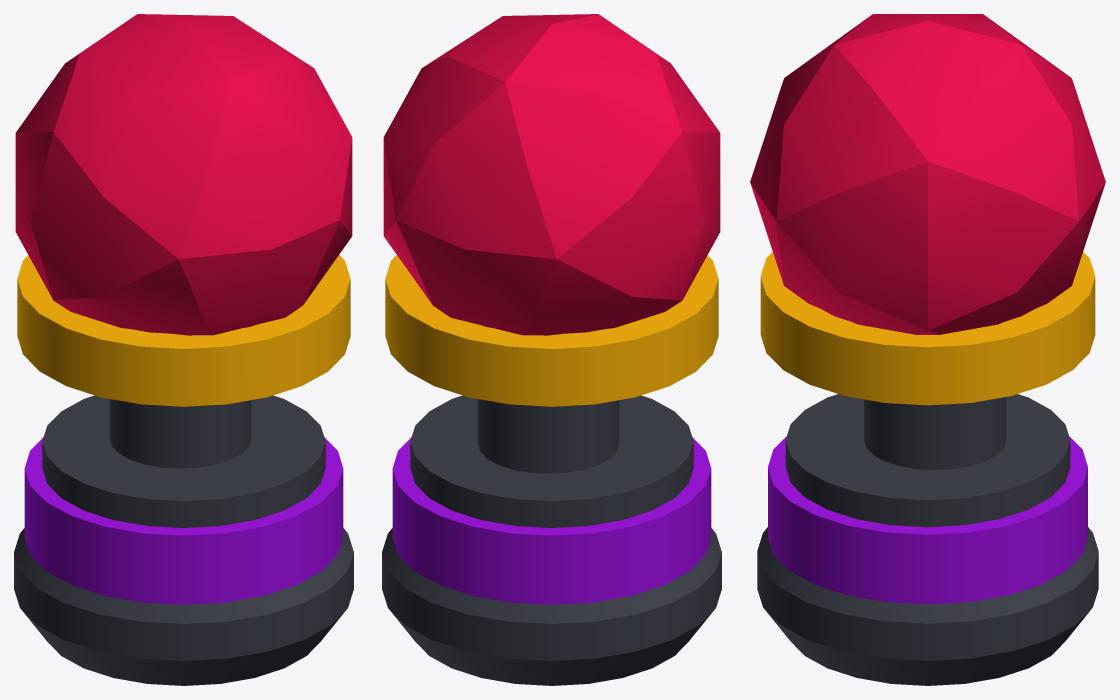
The model's file is tower_carmen_lucia.obj.
3 renders of one model, left to right at view 1: azimuth 30°, elevation 25°; view 2: azimuth 150°, elevation 25°; view 3: azimuth 270°, elevation 25°, orthographic.
Visible parts, largest first — view 1: mergedBlocks; view 2: mergedBlocks; view 3: mergedBlocks.
Boxes of the visible parts, x1,y1,x2,y2 form: mergedBlocks: [14, 14, 353, 685]; mergedBlocks: [382, 14, 721, 685]; mergedBlocks: [750, 14, 1105, 685].
Size of the model in its own units: 1 by 1.88 by 1.
